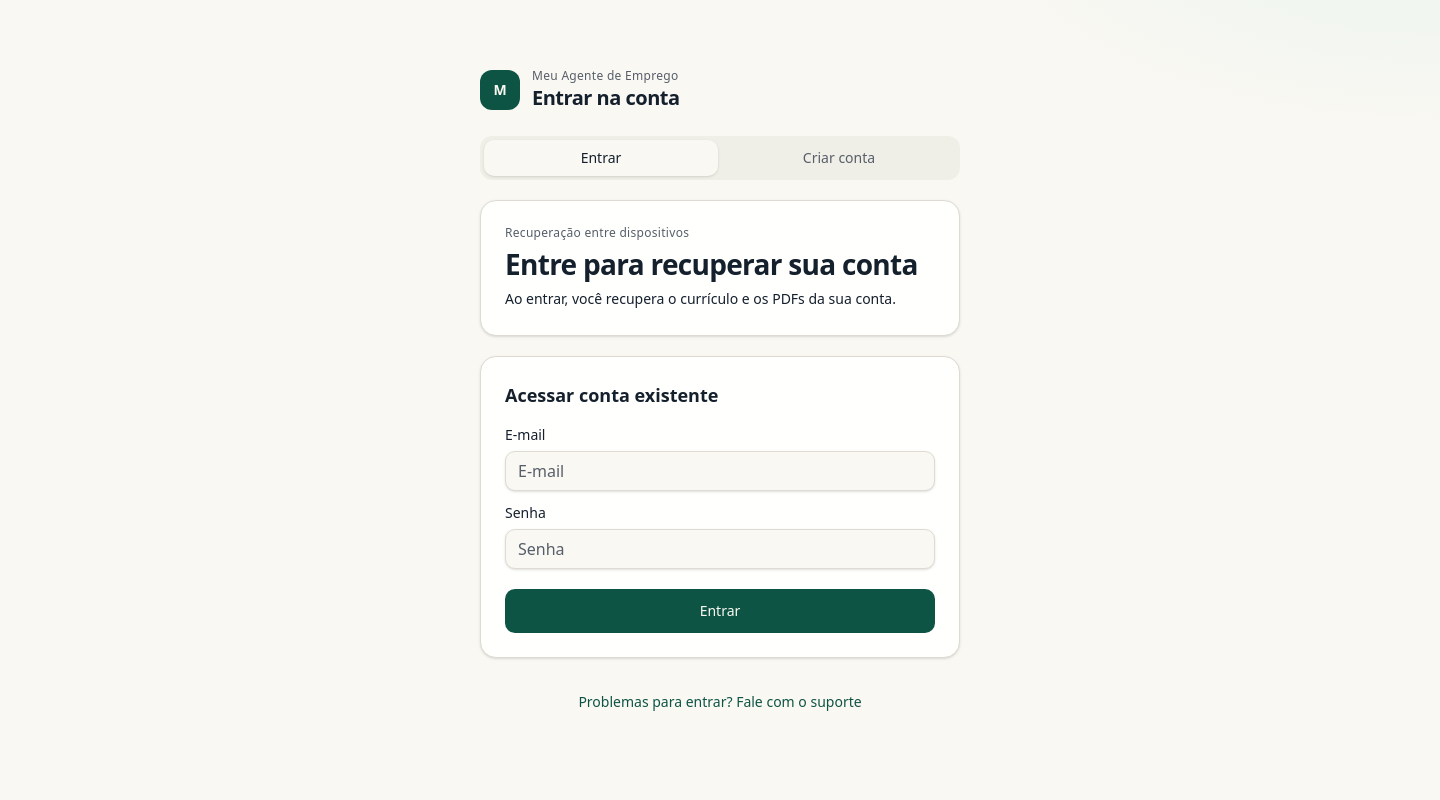
HomePage processar + cotas › 2. sucesso de processar oferece PDF autenticado %PDF e refresca status
Type "ada@example.com" into the field with test id "login-email".
click(720, 471); type("ada@example.com")  # box [505,451,935,491]
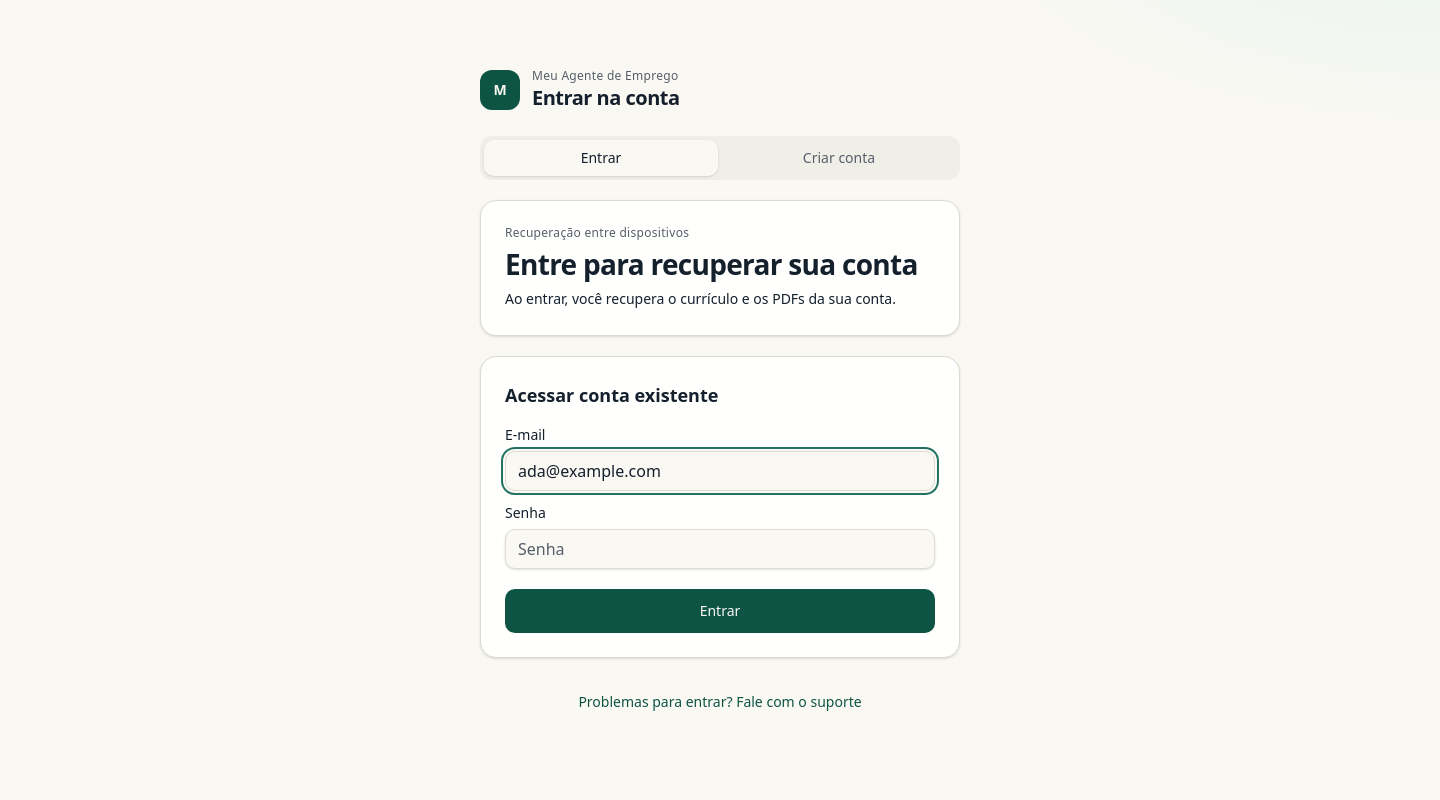
Type "senha-segura" into the password field with test id "login-password".
click(720, 549); type("senha-segura")  # box [505,529,935,569]
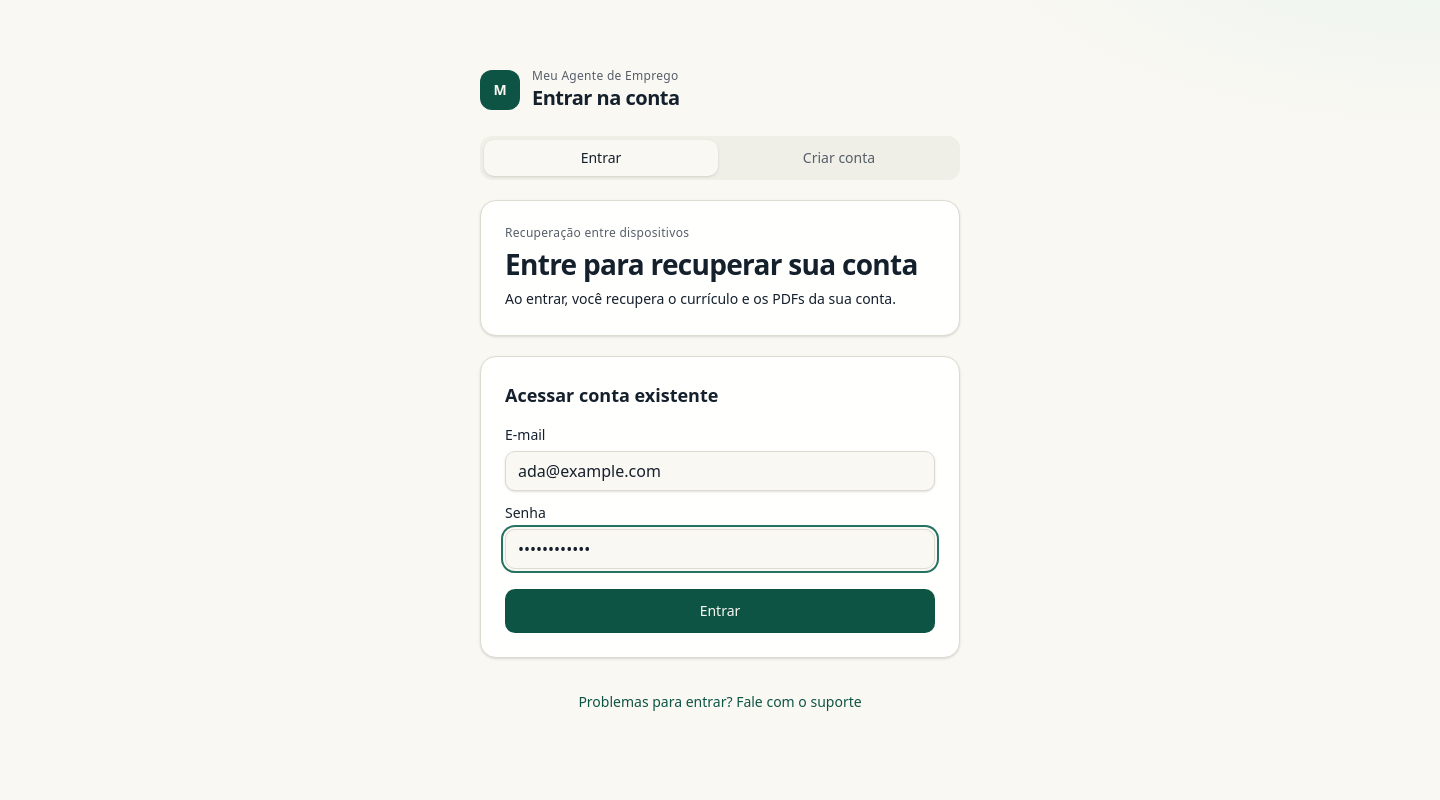
Click the button with test id "login-submit".
click(720, 611)  # box [505,589,935,633]
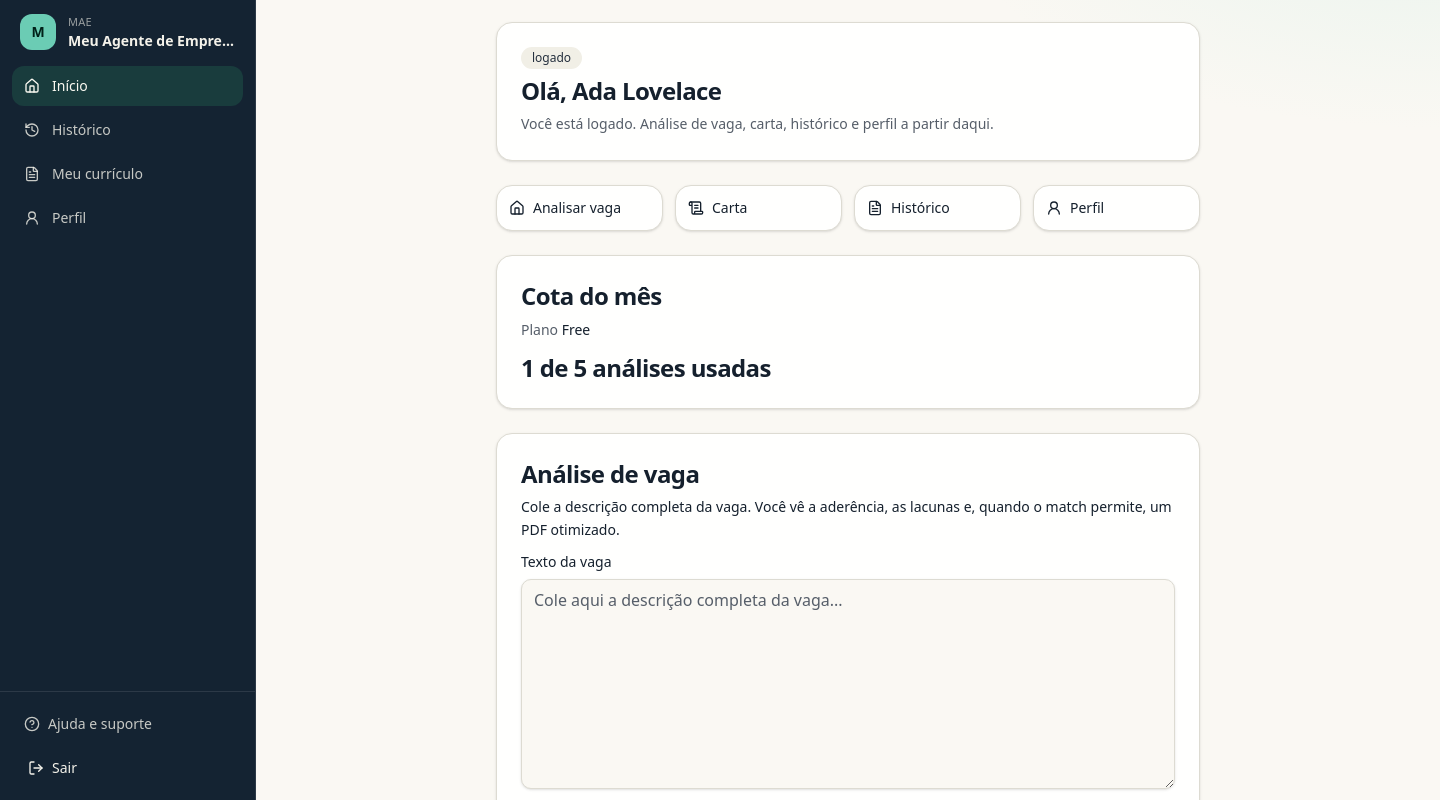
expect the element with test id "home-shell" is shown: met, box [496,22,1200,161]
expect the text with test id "status-quota" reads "1 de 5 análises usadas": met, box [521,351,771,384]
Type "Vaga para desenvolvedor Python com requisitos e responsabilidades." into the text box with test id "processar-texto".
click(848, 684); type("Vaga para desenvolvedor Python com requisitos e responsabilidades.")  # box [521,579,1175,789]
(page scrolled)
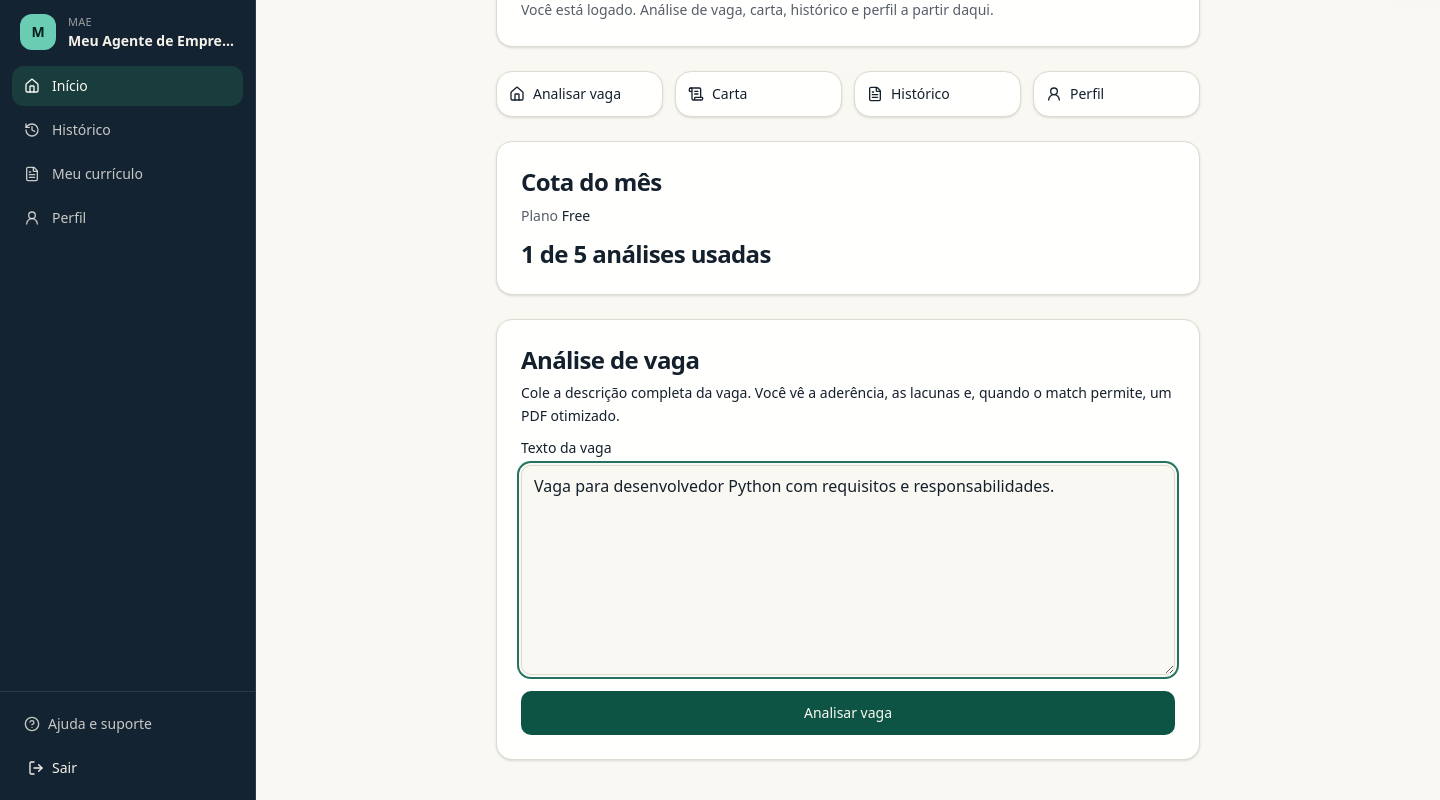
Click the button with test id "processar-submit".
click(848, 713)  # box [521,691,1175,735]
(page scrolled)
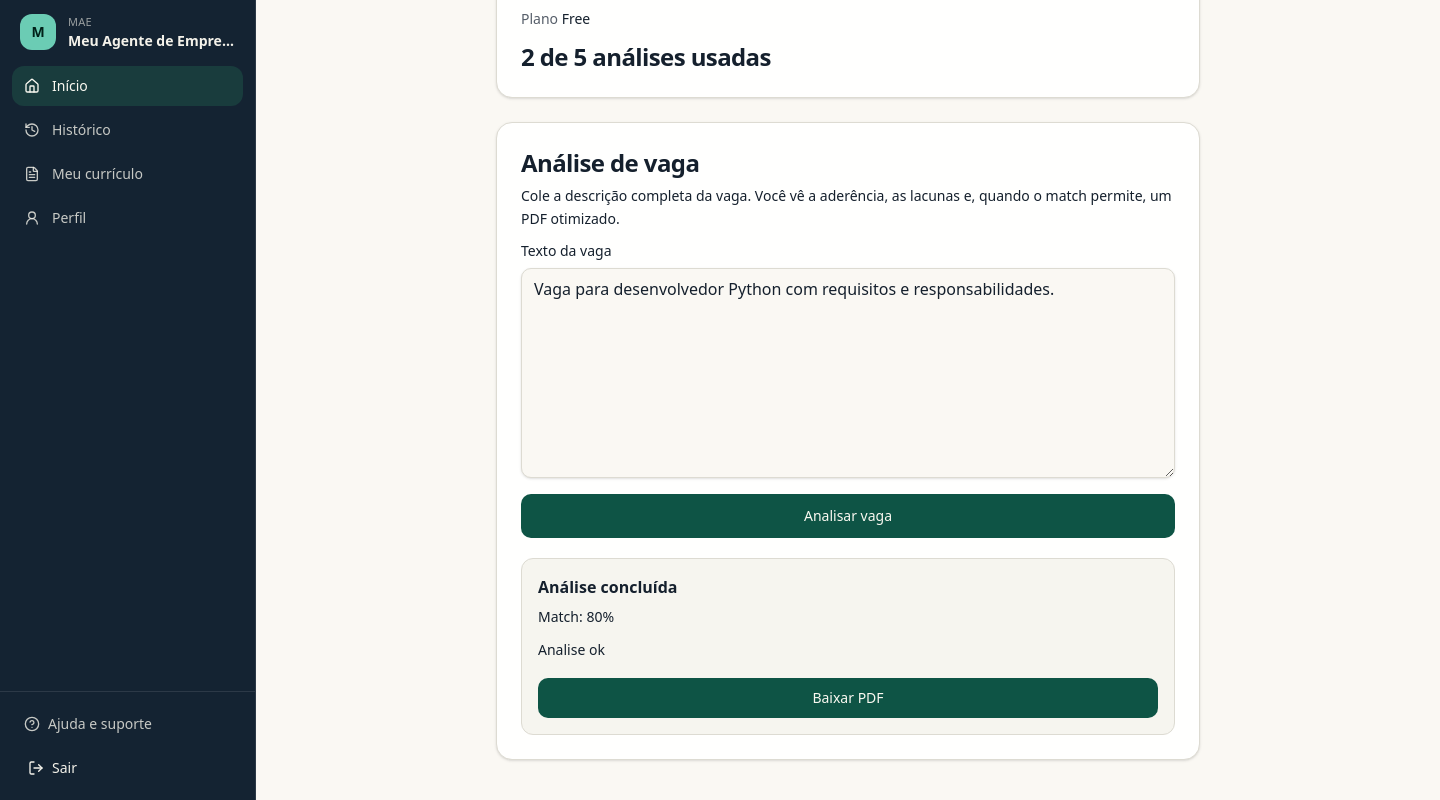
expect the element with test id "processar-success" is shown: met, box [521,558,1175,735]
expect the button with test id "download-pdf" is shown: met
Click the button with test id "download-pdf".
click(848, 698)  # box [538,678,1158,718]
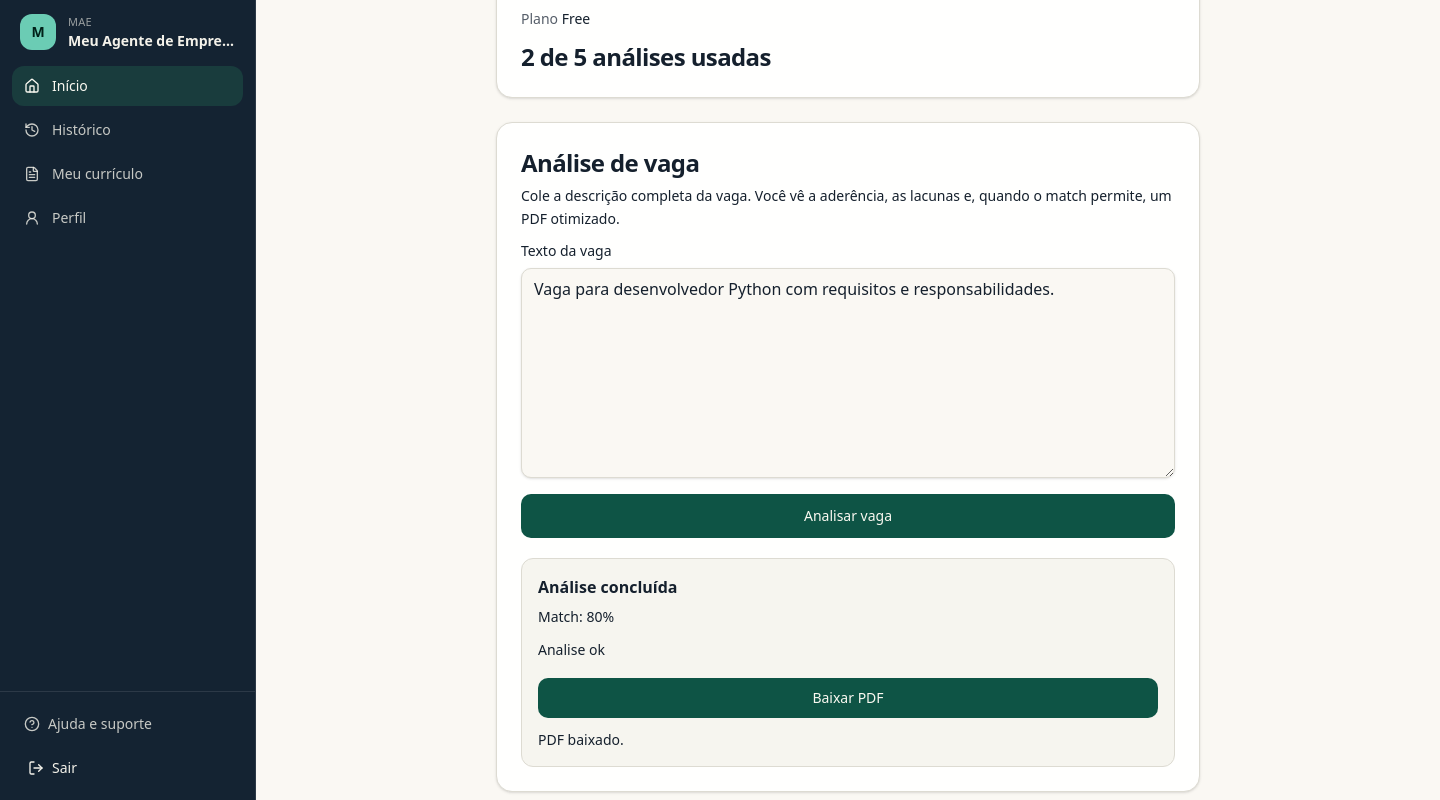
expect the text with test id "status-quota" reads "2 de 5 análises usadas": met, box [521,40,771,73]
expect the message "PDF baixado." is shown: met, box [538,730,624,749]
